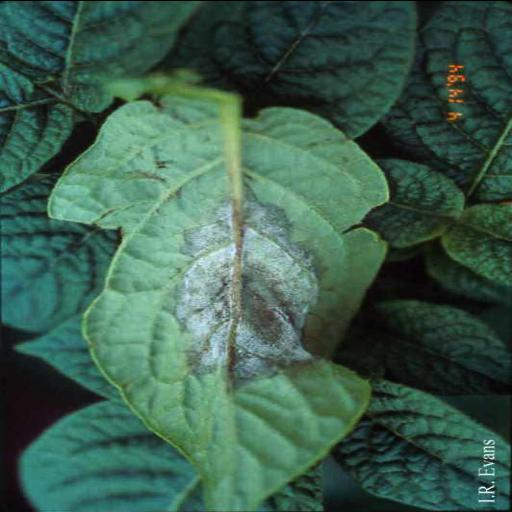Late Blight: (41, 85, 389, 507)
